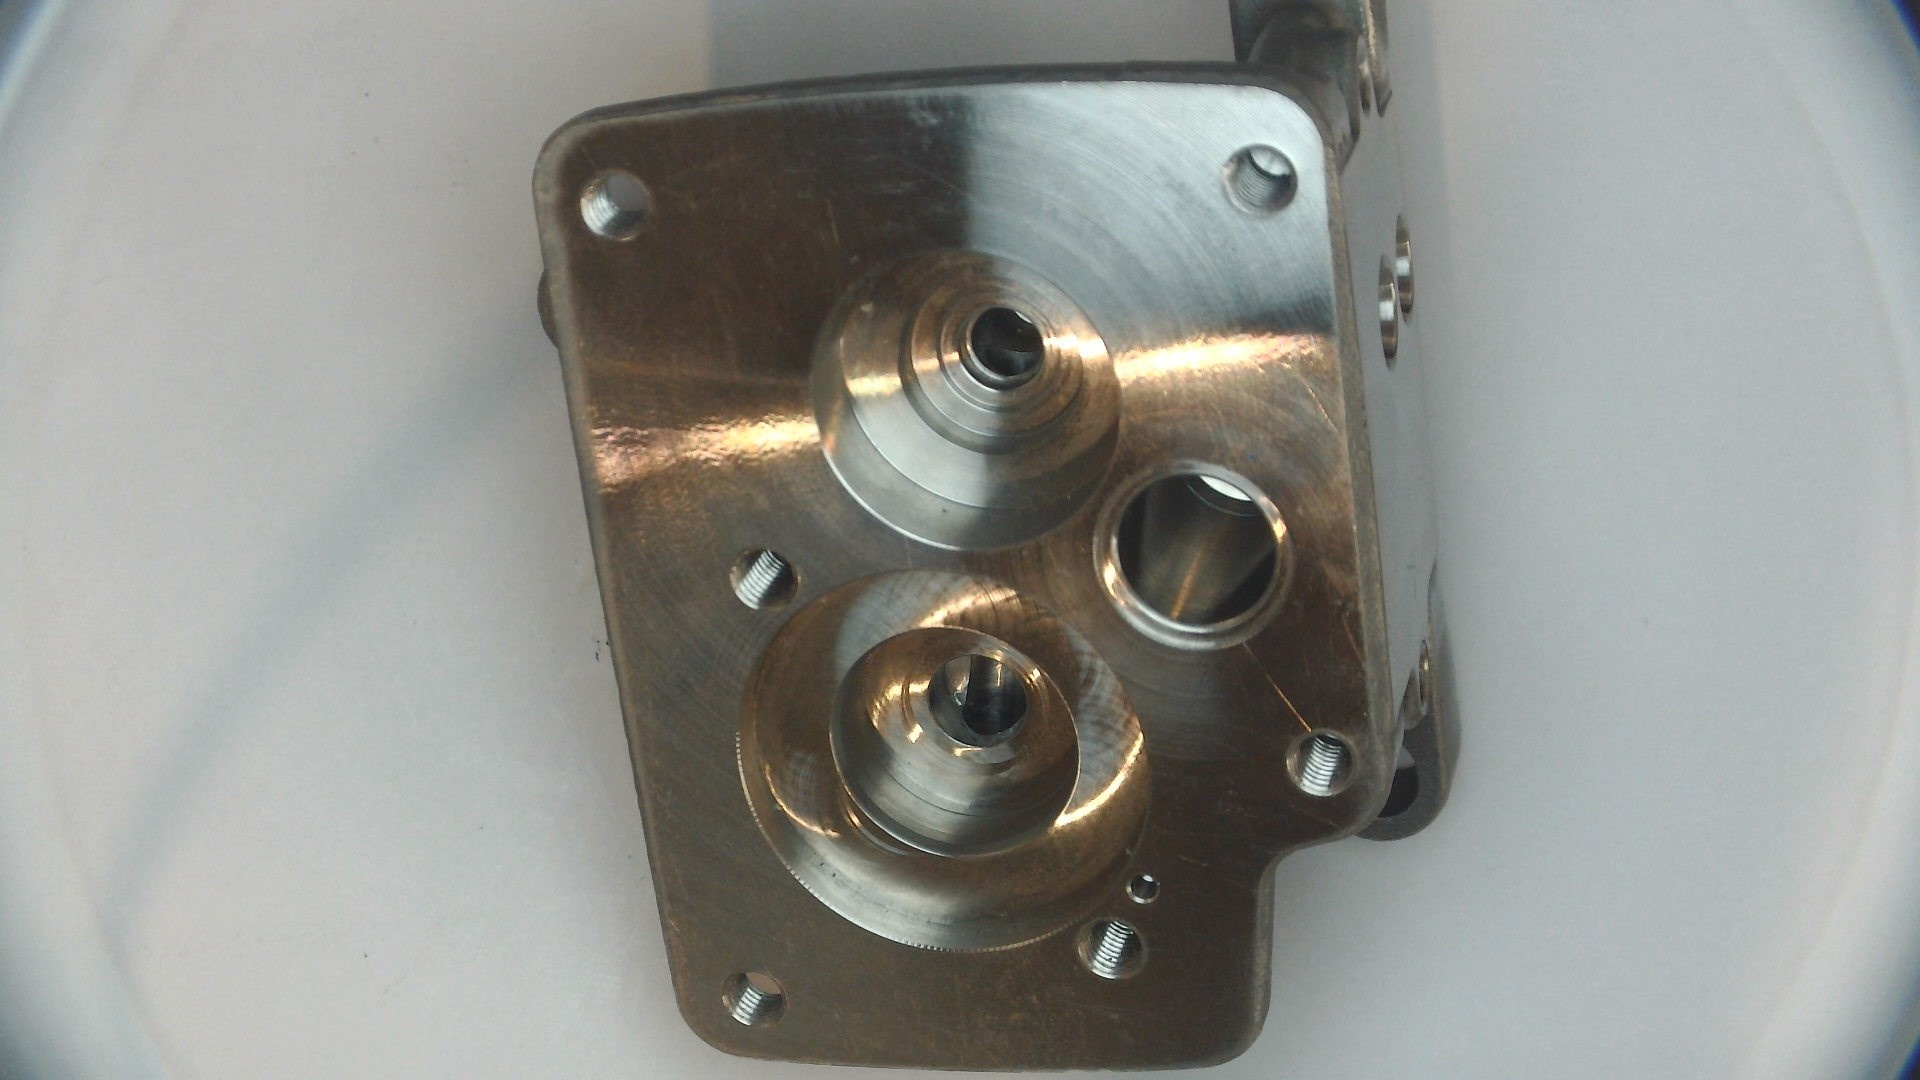thread_presence: (580, 170, 647, 240), (1226, 146, 1292, 214), (1077, 916, 1139, 978), (1292, 732, 1352, 796), (723, 971, 785, 1029), (732, 546, 789, 608)
